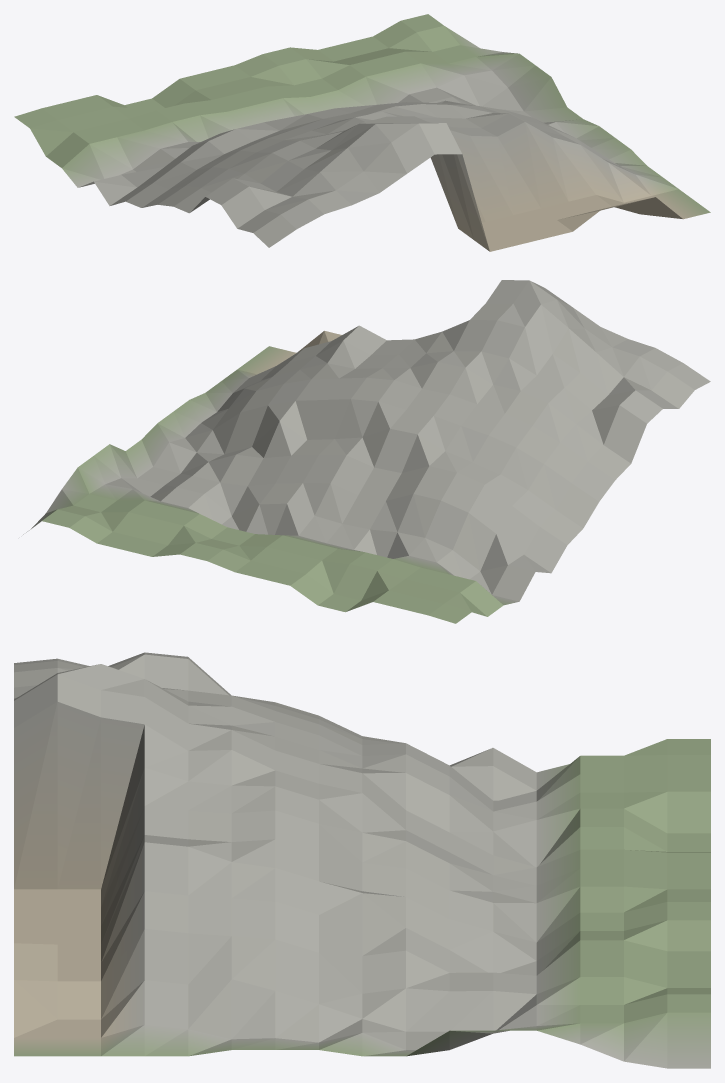
3 views of the same model, one above another, from view 1: azimuth 30°, elevation 25°; view 2: azimuth 150°, elevation 25°; view 3: azimuth 270°, elevation 25° (orthographic). The views are drawn at different scales.
Bounding box in the file's own units: 32 × 10.79 × 32.
